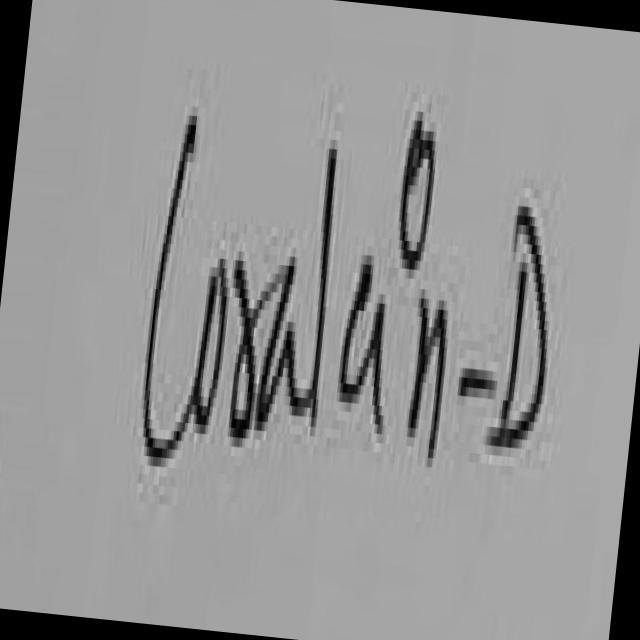C: (143, 116, 197, 467)
D: (491, 207, 549, 448)
a: (257, 257, 296, 431)
i: (348, 286, 388, 434), (400, 111, 434, 280)
l: (311, 149, 338, 427)
n: (410, 298, 448, 458)
o: (193, 259, 228, 434)
r: (230, 260, 270, 438)
